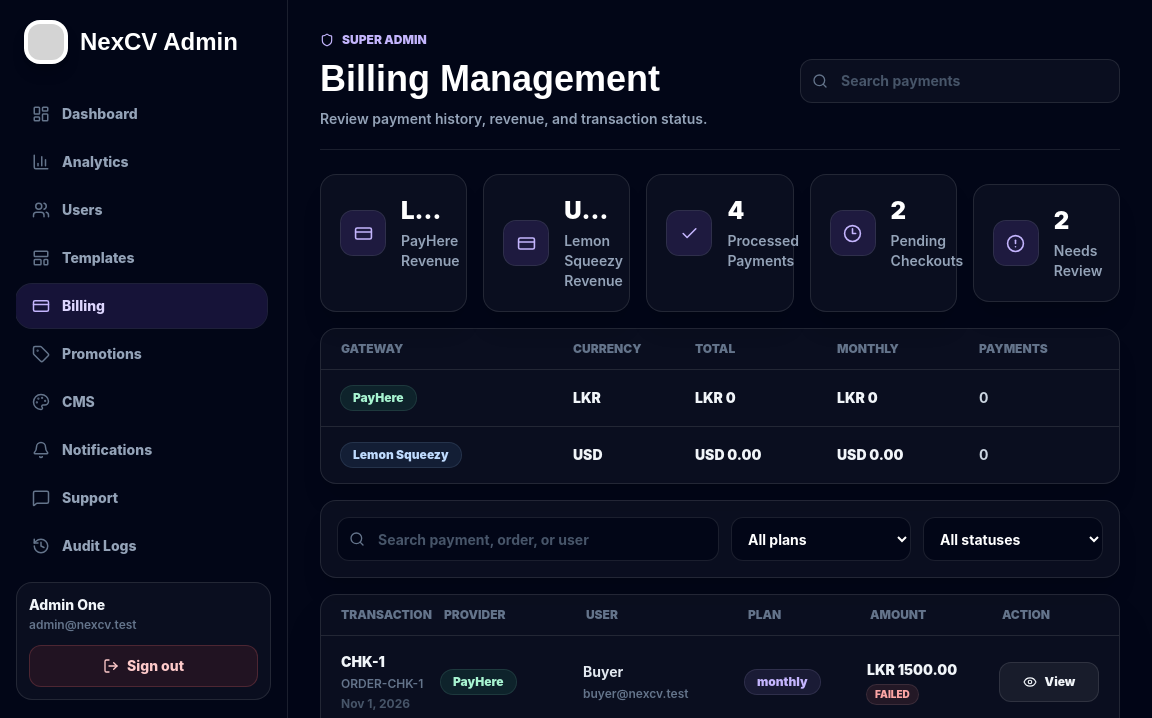
Test case: AdminDashboard billing › resolves a checkout review from the review queue and drops it from the list
The width and height of the screenshot is (1152, 718).
expect the text "CHK-1" is shown: met, box [341,653,385,670]
Select "Needs Review" in the 2nd dropdown showing "All statuses" at [1013, 539], box [923,517,1103,561]
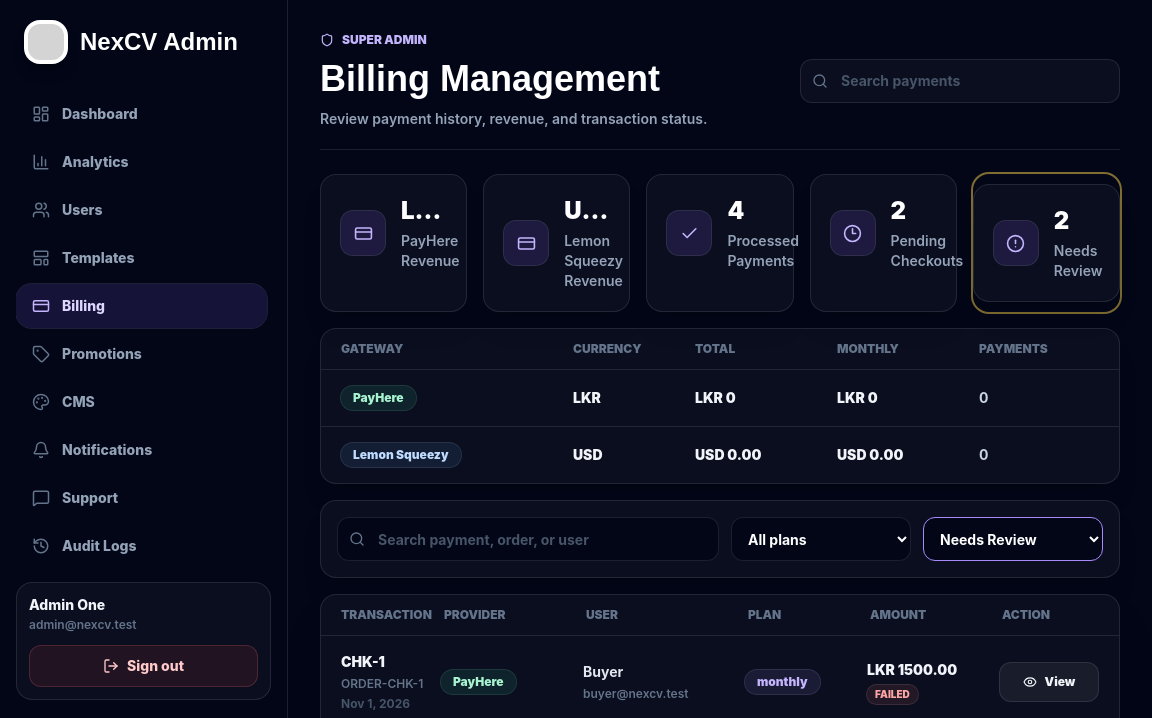
expect the text "CHK-1" is shown: met, box [341,653,385,670]
Click the button "View" at [1049, 682], box [999,662,1099,702]
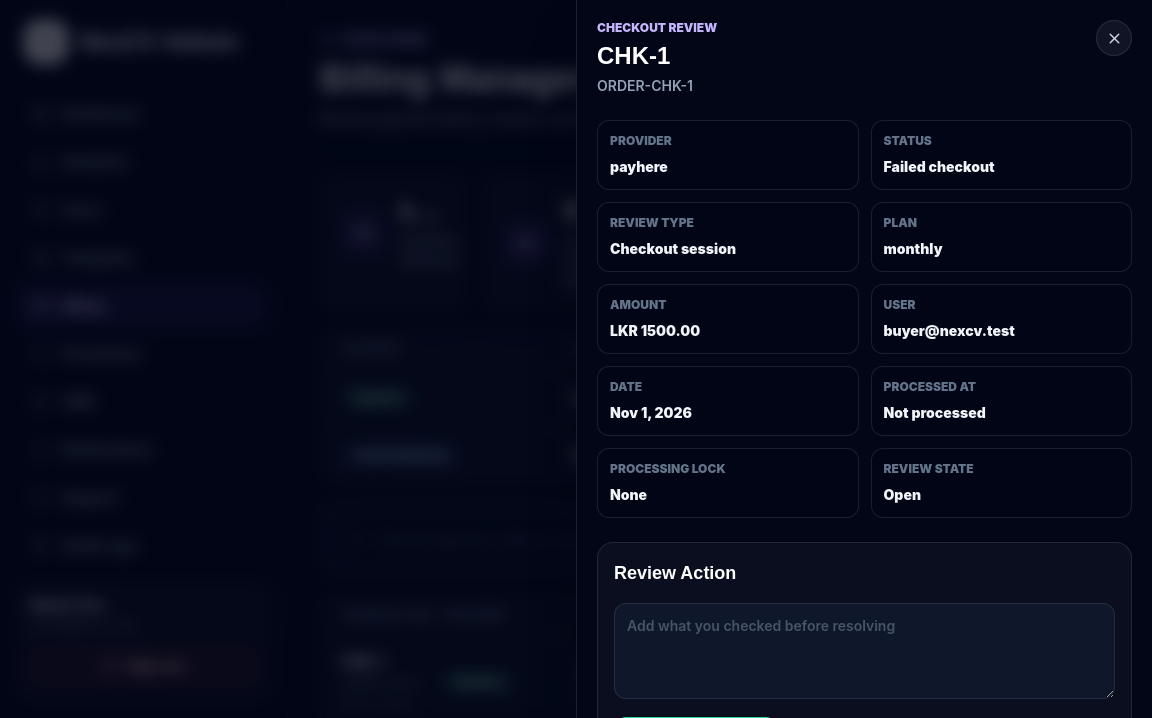
expect the text "Checkout Review" is shown: met, box [597,20,717,36]
Type "Gateway shows no charge" into the text box with placeholder "Add what you checked before resolving" at [864, 651], box [614,603,1115,699]
(page scrolled)
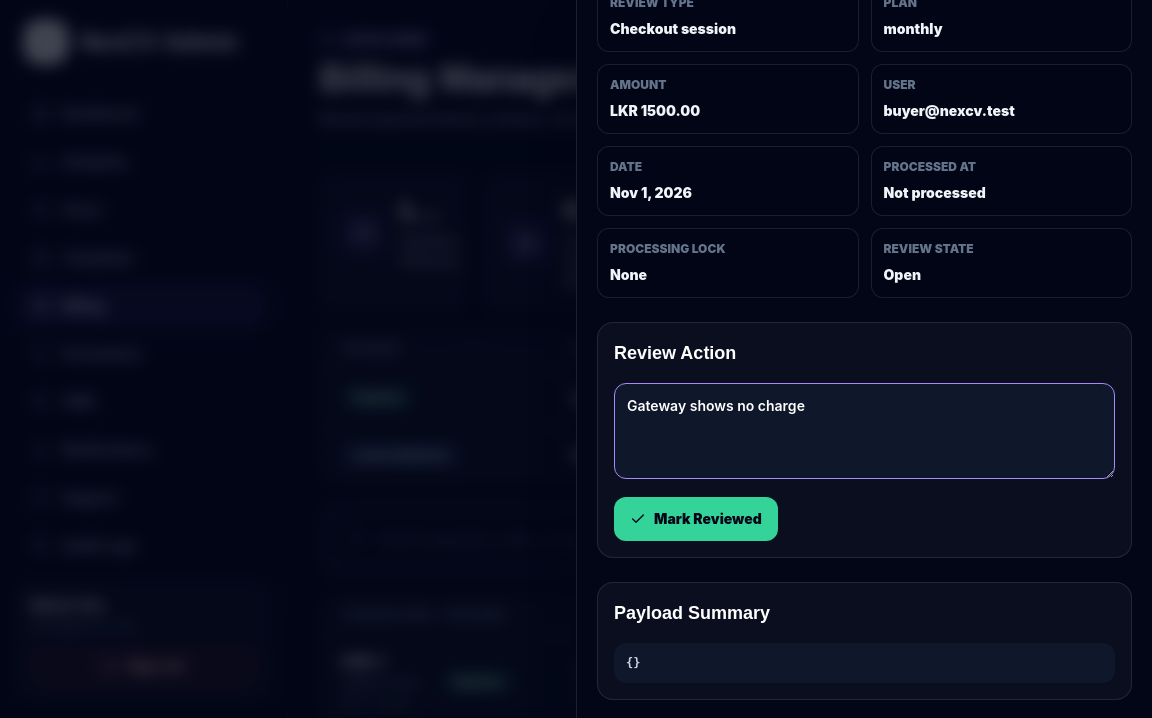
Click the button "Mark Reviewed" at [696, 519], box [614,497,778,541]
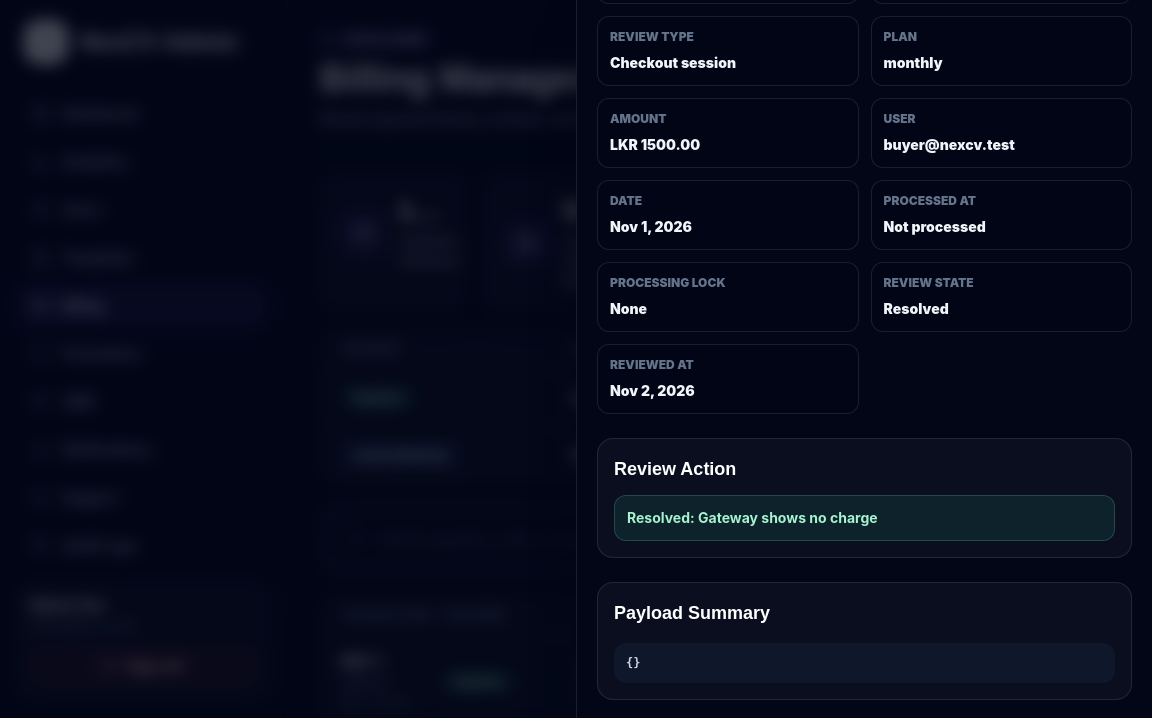
expect the text "CHK-1" is not shown: met
expect the text "Resolved: Gateway shows no charge" is shown: met, box [614,495,1115,541]
